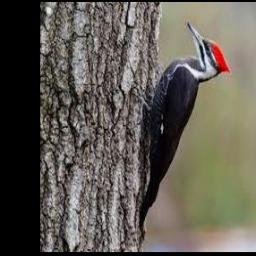Woodpecker: (135, 21, 231, 238)
